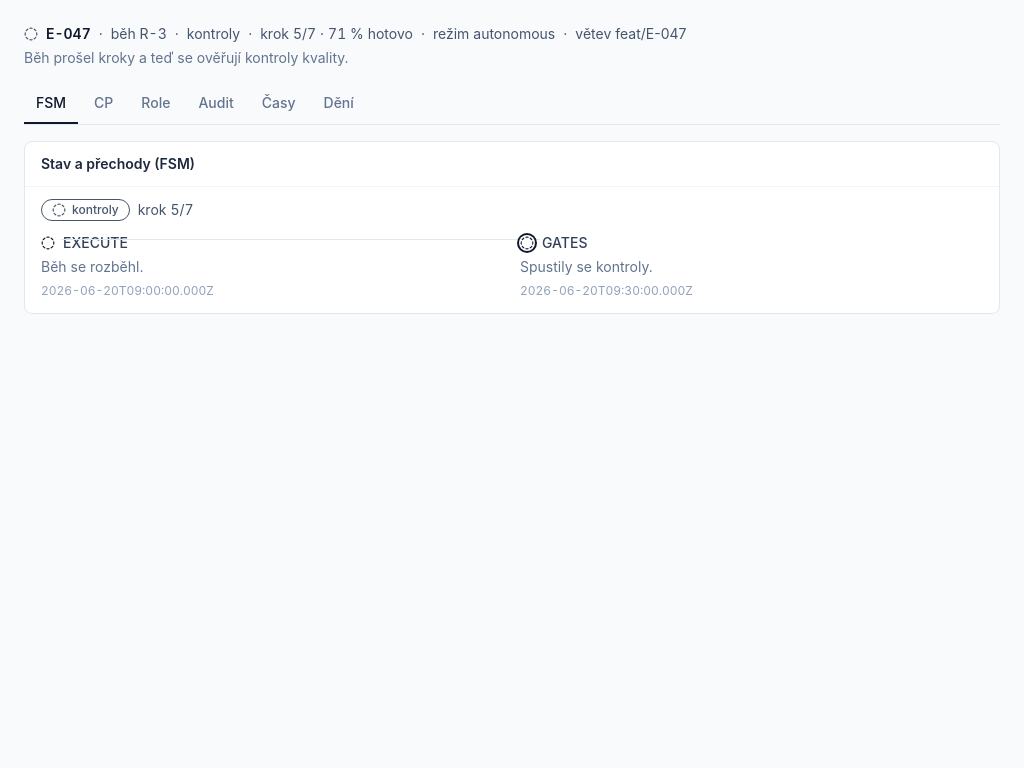
Test case: ScreenC — EPIC deep view (v3 run) › CP tab renders CP1-CP5 verdicts + provenance; null repeat → "?" no hot-spot; known >=3 → hot-spot; CP6 = Fast-Mode note
expect the element showing "FSM CP Role Audit Časy Dění" is shown: met, box [24,84,1000,125]
Step 1. Click the tab "CP" → {"x": 104, "y": 104}, box [82,84,125,124]
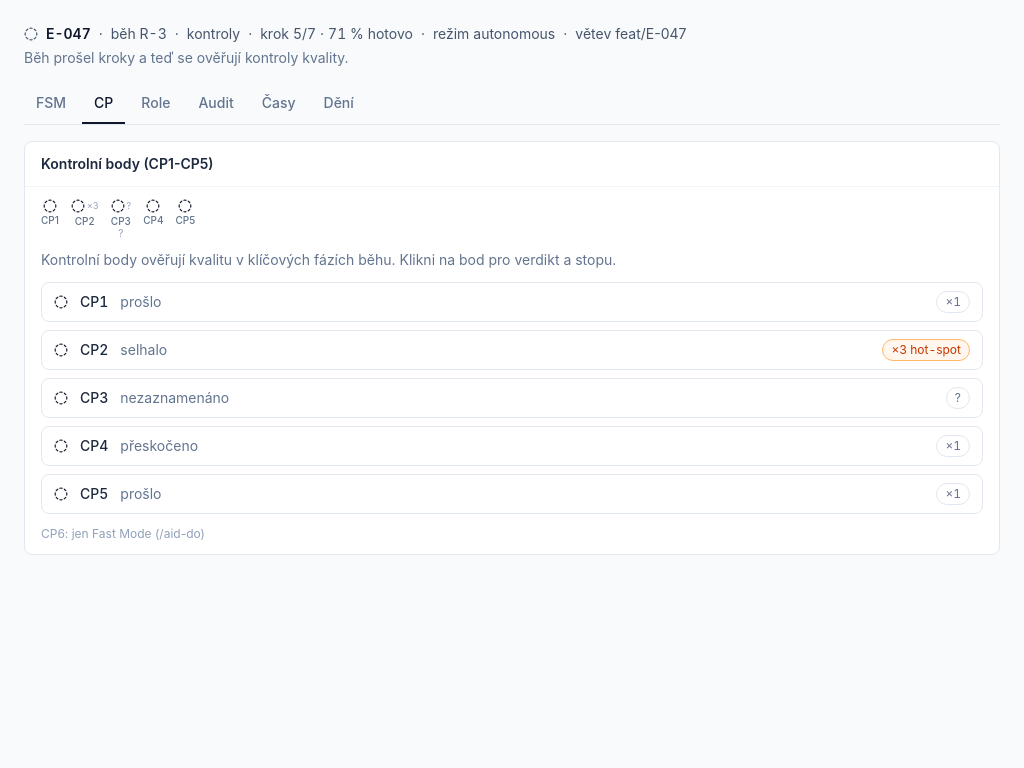
expect the 2nd list is shown: met, box [41,282,983,514]
expect the number of buttons is 5: met
expect the 3rd text "?" is shown: met, box [946,387,970,409]
# Click CP1 → drawer (portaled) shows verdict + provenance + a Czech one-liner + outputs.
Step 2. Click the button "CP1 prošlo ×1" → {"x": 141, "y": 302}, box [41,282,983,322]
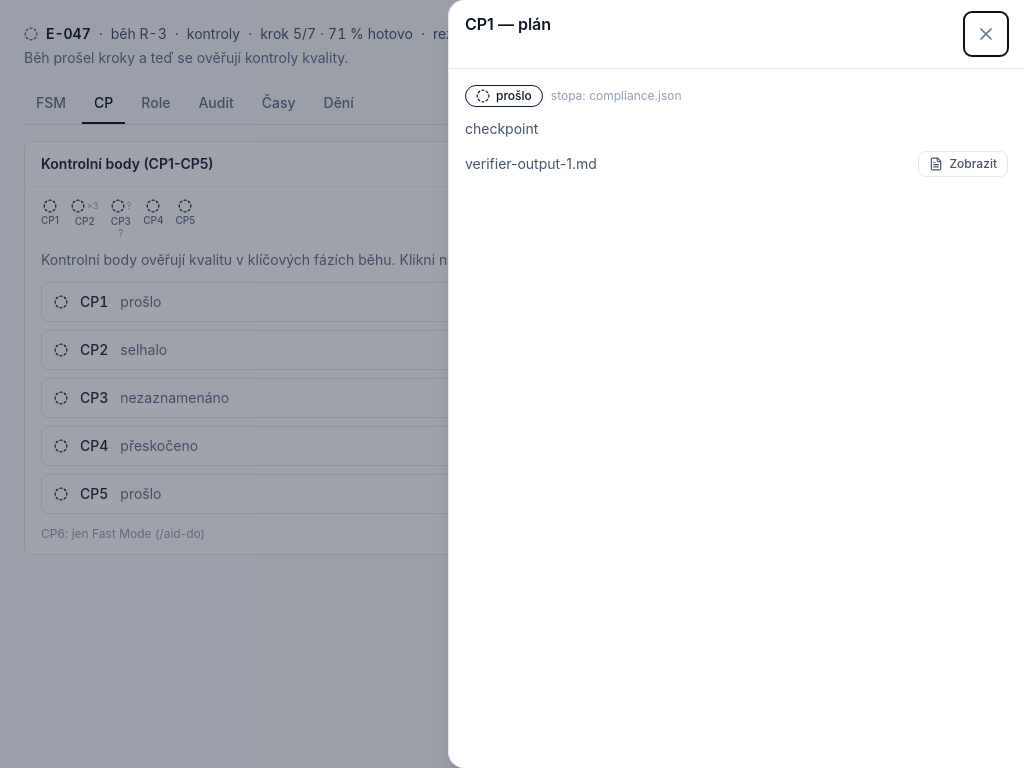
expect the text "stopa: compliance.json" is shown: met, box [551,88,682,104]
expect the text "checkpoint" is shown: met, box [465,120,538,137]
expect the list is shown: met, box [465,151,1008,177]
